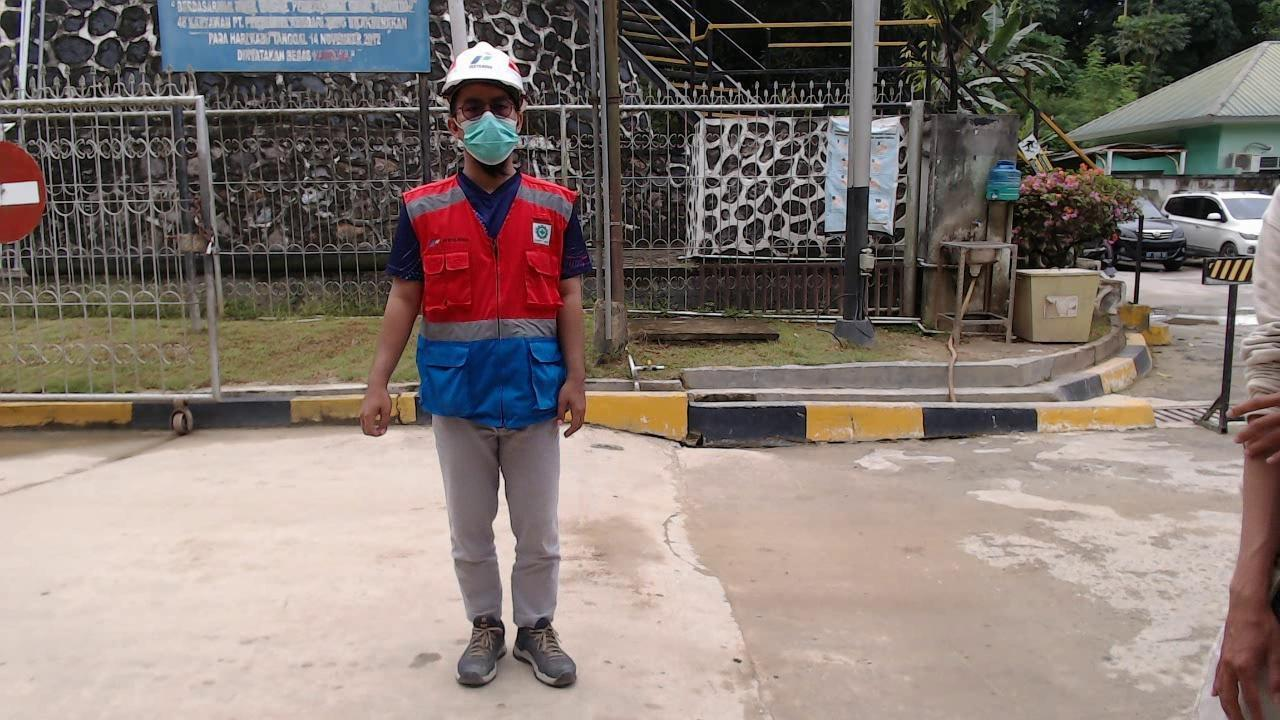helmet: (431, 37, 538, 103)
